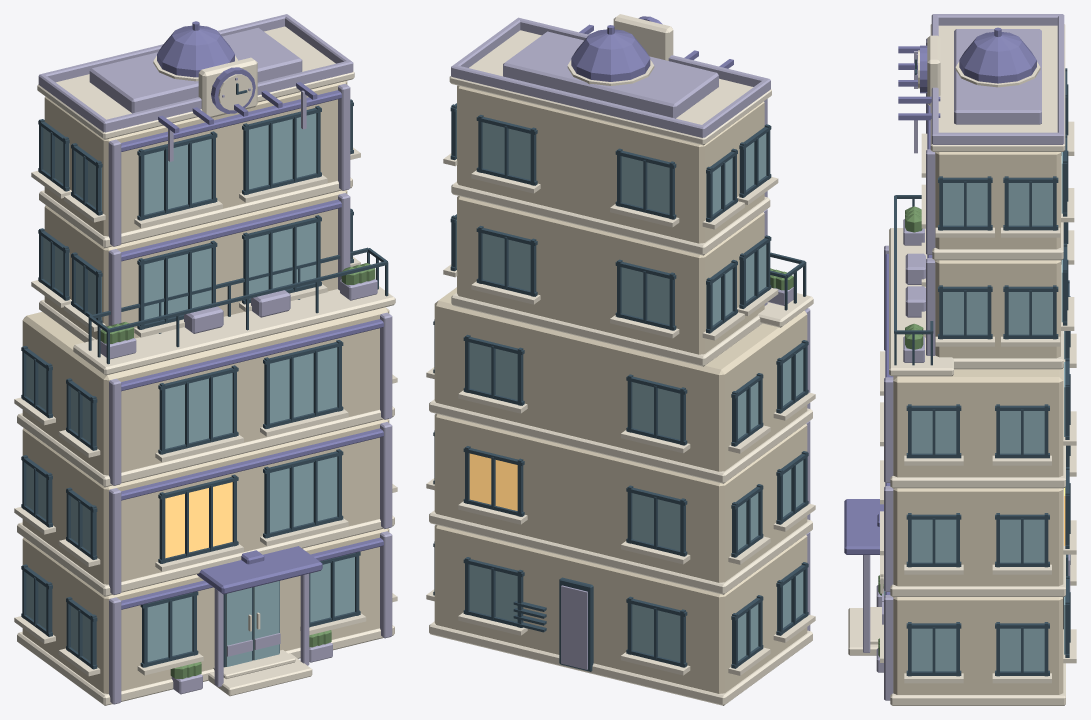
Rendered from learning-l05.glb.
3 views of the same model, side by side, from view 1: azimuth 30°, elevation 25°; view 2: azimuth 150°, elevation 25°; view 3: azimuth 270°, elevation 25° (orthographic). The views are drawn at different scales.
Visible parts, largest first — view 1: learning_L05; view 2: learning_L05; view 3: learning_L05.
Boxes of the visible parts, left/top/right/bottom form: learning_L05: left=14, top=14, right=397, bottom=705; learning_L05: left=426, top=14, right=815, bottom=705; learning_L05: left=844, top=14, right=1076, bottom=705.
Size of the model in its own units: 6.27 by 11.81 by 4.09.
